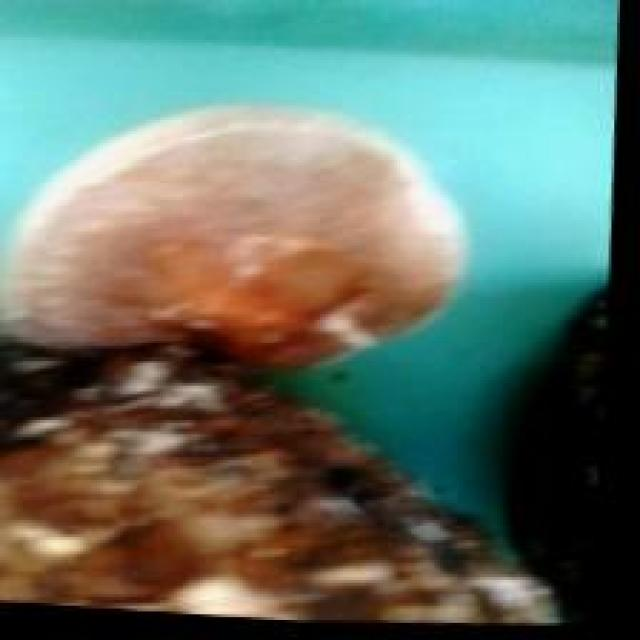chanterelle: (3, 100, 571, 626)
death-cap: (3, 100, 471, 371)
